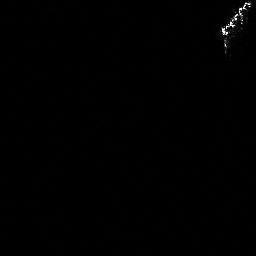ship: (213, 1, 252, 52)
